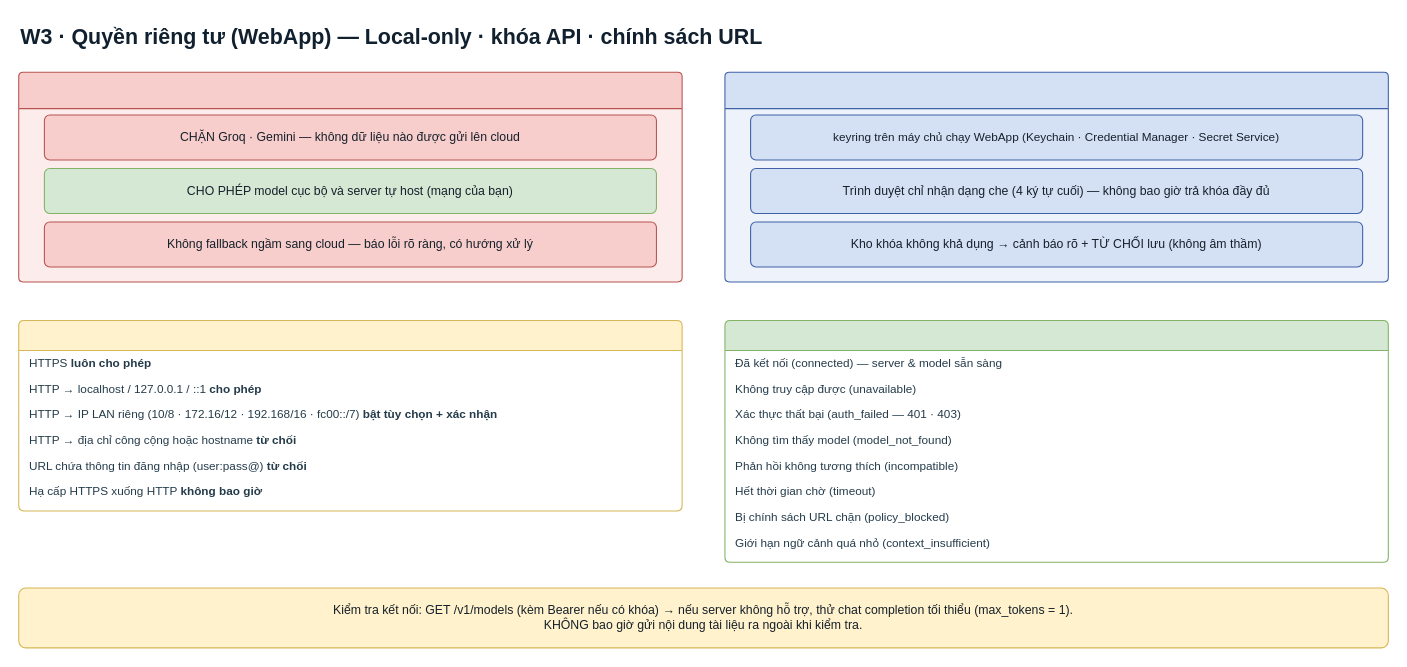
Image size: 1407x667. Some labels were removed from this diagram. The box of each missing label's shape, as (x1, y1, x2, y2) in pixels:
Chính sách URL — server LLM tự host: (18, 319, 682, 511)
Khóa API — CHỈ nằm trong kho khóa (keyring) trên server: (724, 71, 1388, 282)
Kiểm tra kết nối self-hosted — các trạng thái hiển thị: (724, 319, 1388, 562)
Local-only (Cài đặt → Quyền riêng tư): (18, 71, 682, 282)
